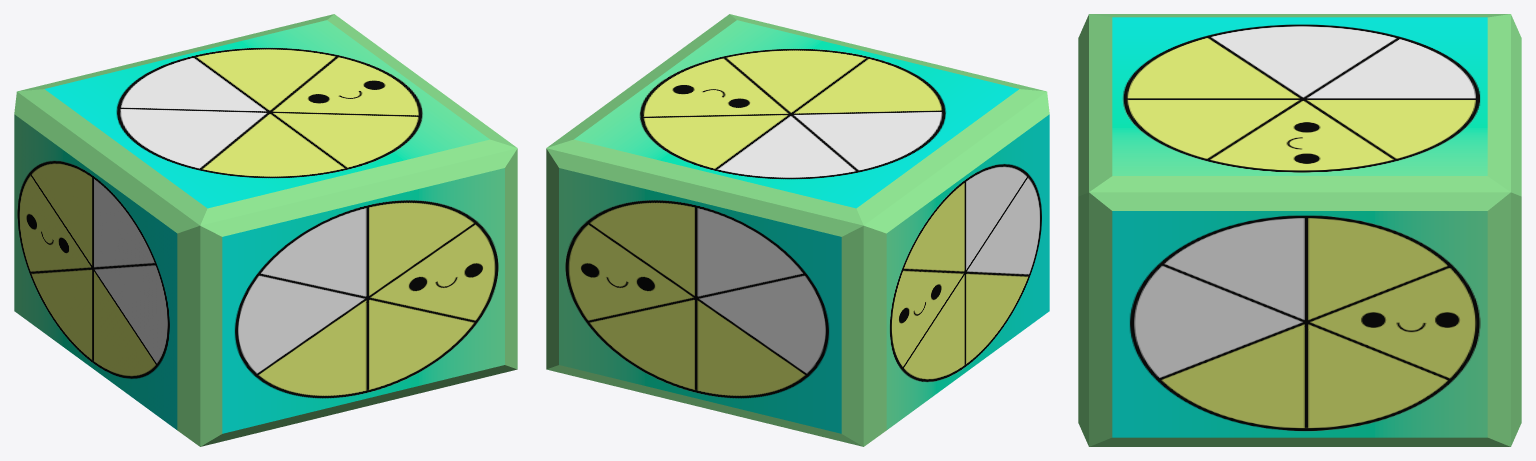
Rendered from Fracciones cuatro sextos.fbx.
3 views of the same model, side by side, from view 1: azimuth 30°, elevation 25°; view 2: azimuth 150°, elevation 25°; view 3: azimuth 270°, elevation 25° (orthographic). The views are drawn at different scales.
Visible parts, largest first — view 1: 4/6; view 2: 4/6; view 3: 4/6.
Boxes of the visible parts, left/top/right/bottom form: 4/6: left=14, top=14, right=517, bottom=446; 4/6: left=546, top=14, right=1049, bottom=446; 4/6: left=1078, top=14, right=1521, bottom=446.
Bounding box in the file's own units: 213 × 140 × 210.
Materials: 2 (1 with a texture image).
